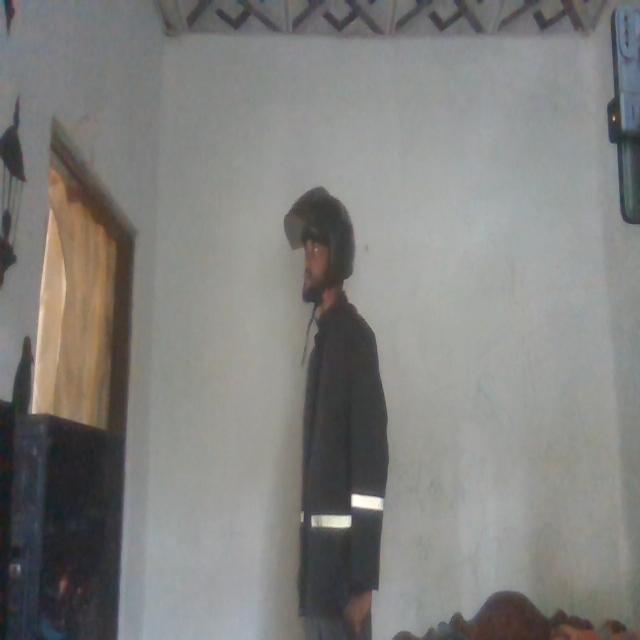Helmet_Wearer: (287, 192, 361, 299)
Jacket_Wearer: (297, 302, 391, 608)
Person: (275, 190, 387, 640)
